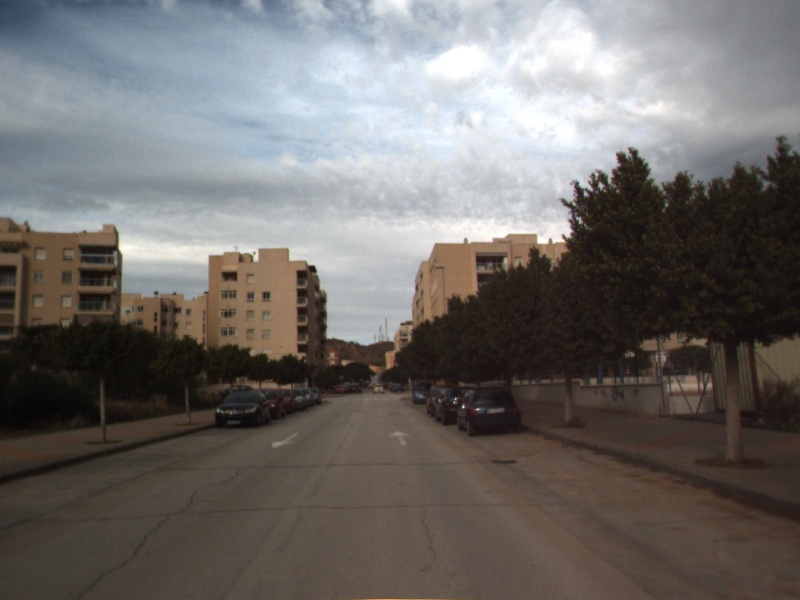STRAIGHT: (387, 428, 413, 447)
